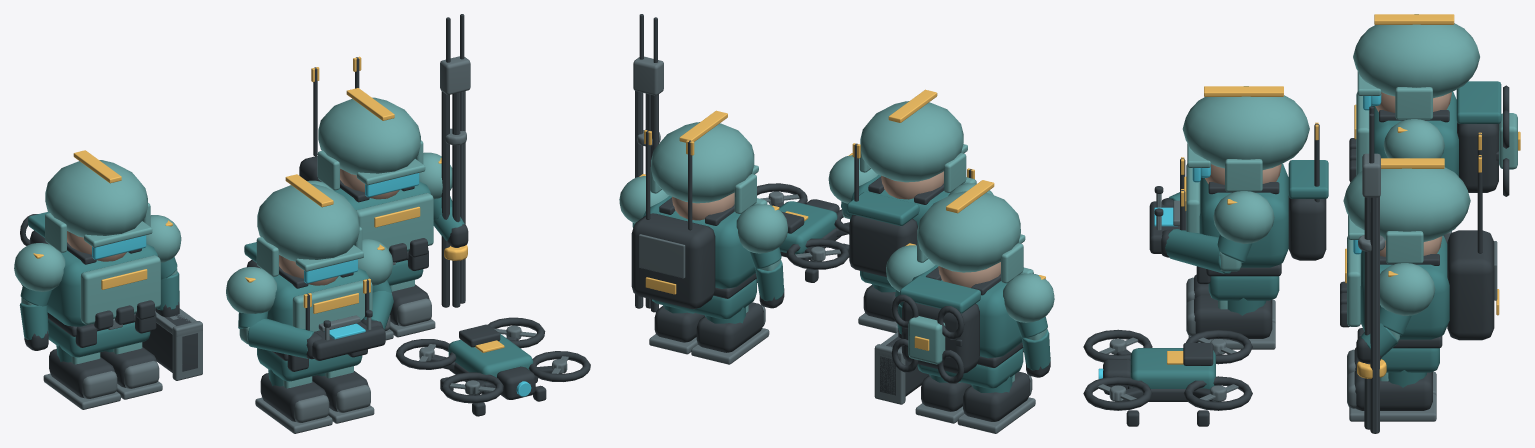
File: meridian-fpv-operators.glb
3 renders of one model, left to right at view 1: azimuth 30°, elevation 25°; view 2: azimuth 150°, elevation 25°; view 3: azimuth 270°, elevation 25°, orthographic. The views are drawn at different scales.
Visible parts, largest first — view 1: Operator2_BodyMesh, Operator1_BodyMesh, Operator3_BodyMesh, FPVDroneMesh, Operator3_ArmsMesh, Operator1_ArmsMesh, Operator2_ArmsMesh, Operator1_LegLeftMesh, Operator2_LegLeftMesh, Operator2_LegRightMesh, Operator1_LegRightMesh, Operator3_LegRightMesh; view 2: Operator3_BodyMesh, Operator2_BodyMesh, Operator1_BodyMesh, FPVDroneMesh, Operator3_ArmsMesh, Operator2_ArmsMesh, Operator3_LegLeftMesh, Operator2_LegLeftMesh, Operator3_LegRightMesh, Operator2_LegRightMesh, Operator1_LegRightMesh; view 3: Operator1_BodyMesh, Operator3_BodyMesh, Operator2_BodyMesh, FPVDroneMesh, Operator3_ArmsMesh, Operator1_ArmsMesh, Operator3_LegRightMesh, Operator1_LegRightMesh, Operator1_LegLeftMesh.
Boxes of the visible parts, x1,y1,x2,y2 form: Operator2_BodyMesh: (14, 150, 181, 357); Operator1_BodyMesh: (226, 174, 393, 381); Operator3_BodyMesh: (299, 56, 452, 285); FPVDroneMesh: (396, 317, 590, 416); Operator3_ArmsMesh: (433, 14, 470, 307); Operator1_ArmsMesh: (238, 278, 393, 360); Operator2_ArmsMesh: (19, 256, 202, 380); Operator1_LegLeftMesh: (255, 369, 332, 433); Operator2_LegLeftMesh: (43, 345, 120, 409); Operator2_LegRightMesh: (100, 342, 162, 399); Operator1_LegRightMesh: (312, 366, 374, 423); Operator3_LegRightMesh: (389, 280, 435, 337); Operator3_BodyMesh: (619, 110, 787, 319); Operator2_BodyMesh: (886, 180, 1054, 388); Operator1_BodyMesh: (828, 89, 993, 289); FPVDroneMesh: (757, 183, 849, 282); Operator3_ArmsMesh: (632, 14, 784, 312); Operator2_ArmsMesh: (874, 290, 1050, 404); Operator3_LegLeftMesh: (691, 302, 769, 364); Operator2_LegLeftMesh: (957, 371, 1035, 433); Operator3_LegRightMesh: (649, 305, 704, 354); Operator2_LegRightMesh: (915, 374, 971, 423); Operator1_LegRightMesh: (858, 284, 898, 333); Operator1_BodyMesh: (1182, 86, 1328, 300); Operator3_BodyMesh: (1340, 132, 1499, 372); Operator2_BodyMesh: (1349, 14, 1520, 196); FPVDroneMesh: (1083, 329, 1252, 426); Operator3_ArmsMesh: (1356, 106, 1411, 433); Operator1_ArmsMesh: (1149, 157, 1252, 273); Operator3_LegRightMesh: (1347, 369, 1436, 421); Operator1_LegRightMesh: (1186, 295, 1275, 349); Operator1_LegLeftMesh: (1186, 274, 1275, 323).
Size of the model in its own units: 2.2 by 1.44 by 1.74.
